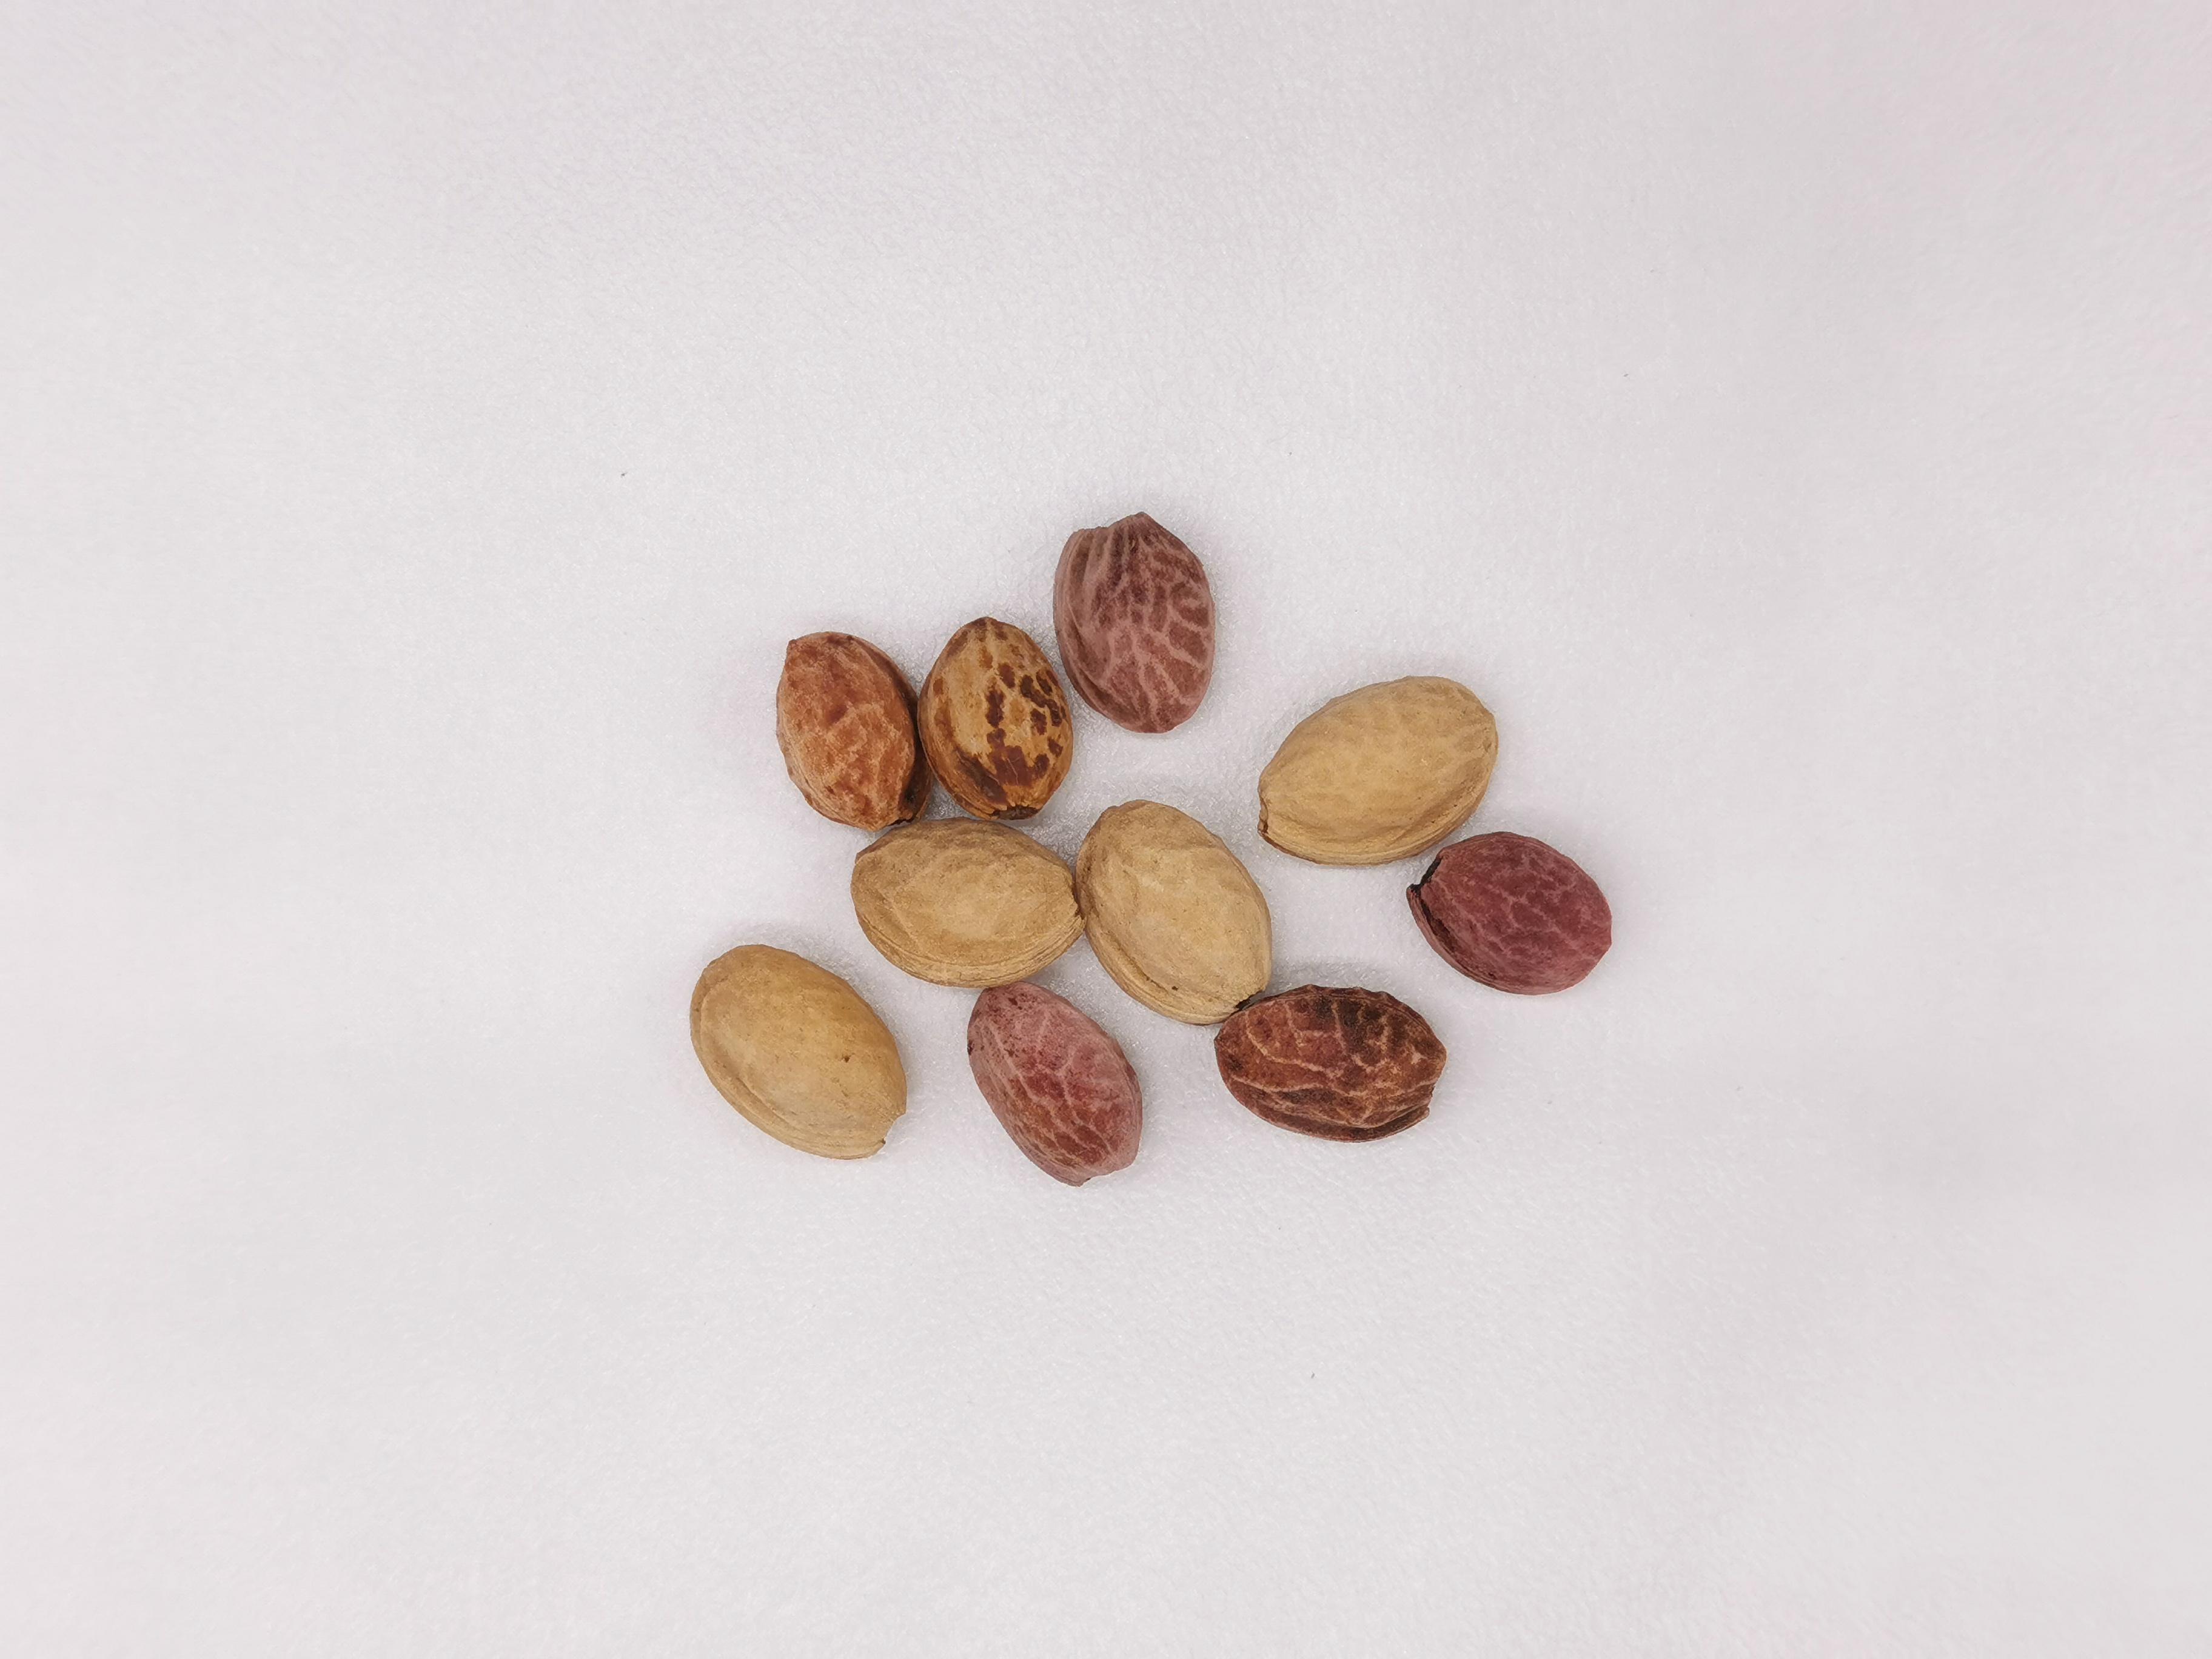seed: (1258, 669, 1505, 866), (685, 941, 907, 1159), (1071, 795, 1268, 1025), (845, 814, 1078, 986), (963, 981, 1153, 1190), (1047, 511, 1217, 739), (1207, 983, 1454, 1136), (770, 622, 939, 833), (1404, 829, 1613, 999), (914, 612, 1073, 816)
